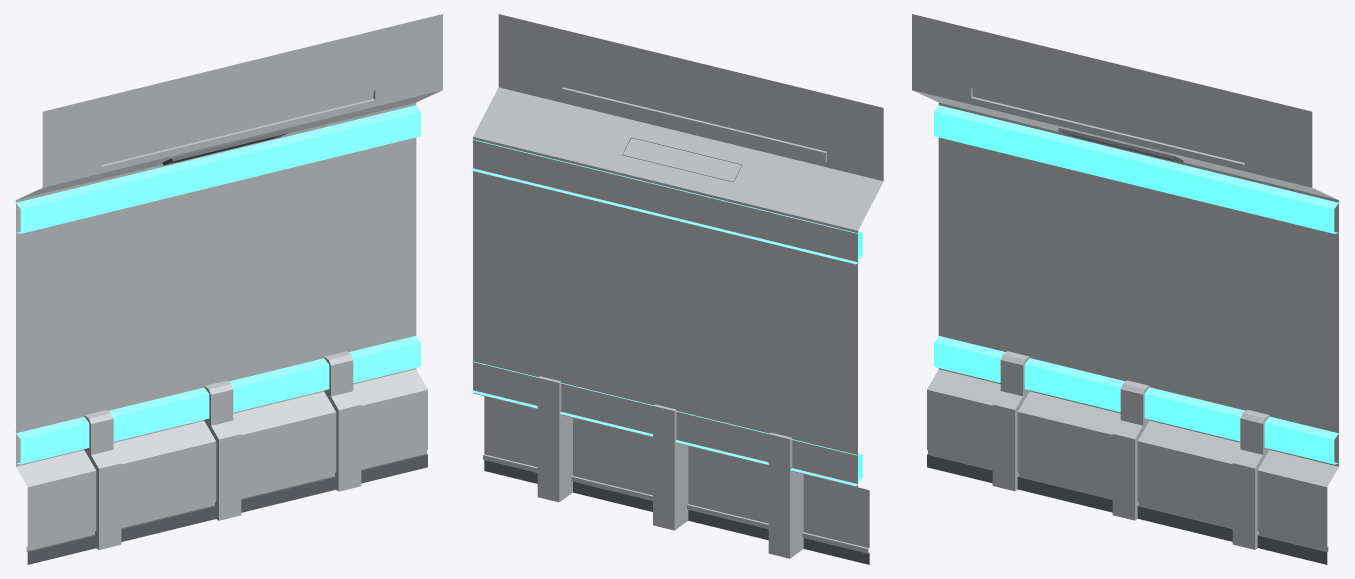
Rendered from wall_empty-ChQxPv0c.glb.
The picture shows the model from 3 angles, left to right: view 1: azimuth 30°, elevation 25°; view 2: azimuth 150°, elevation 25°; view 3: azimuth 330°, elevation 25°; orthographic projection. The views are drawn at different scales.
Parts seen in each view (by area): view 1: Wall_Empty; view 2: Wall_Empty; view 3: Wall_Empty.
Part boxes in pixels (<box>): Wall_Empty: <box>14,14,442,564</box>; Wall_Empty: <box>471,14,883,564</box>; Wall_Empty: <box>912,14,1340,564</box>.
Size of the model in its own units: 3.34 by 3.7 by 0.4169.
